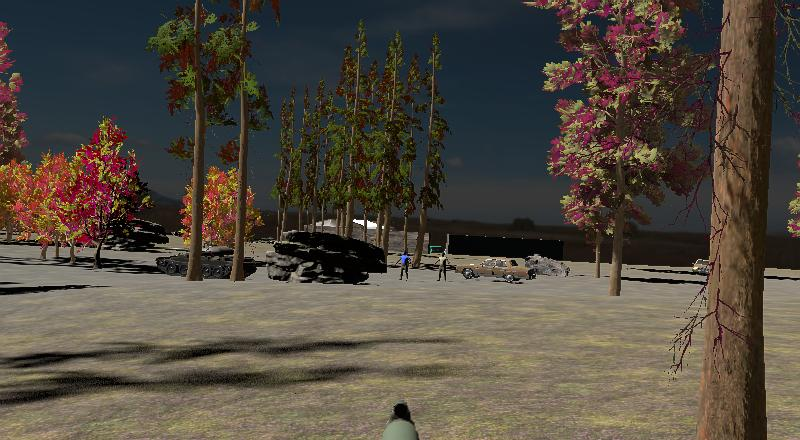Human: (395, 249, 412, 282), (434, 250, 449, 283)
Tank: (141, 240, 259, 280)
car: (453, 254, 537, 284)
